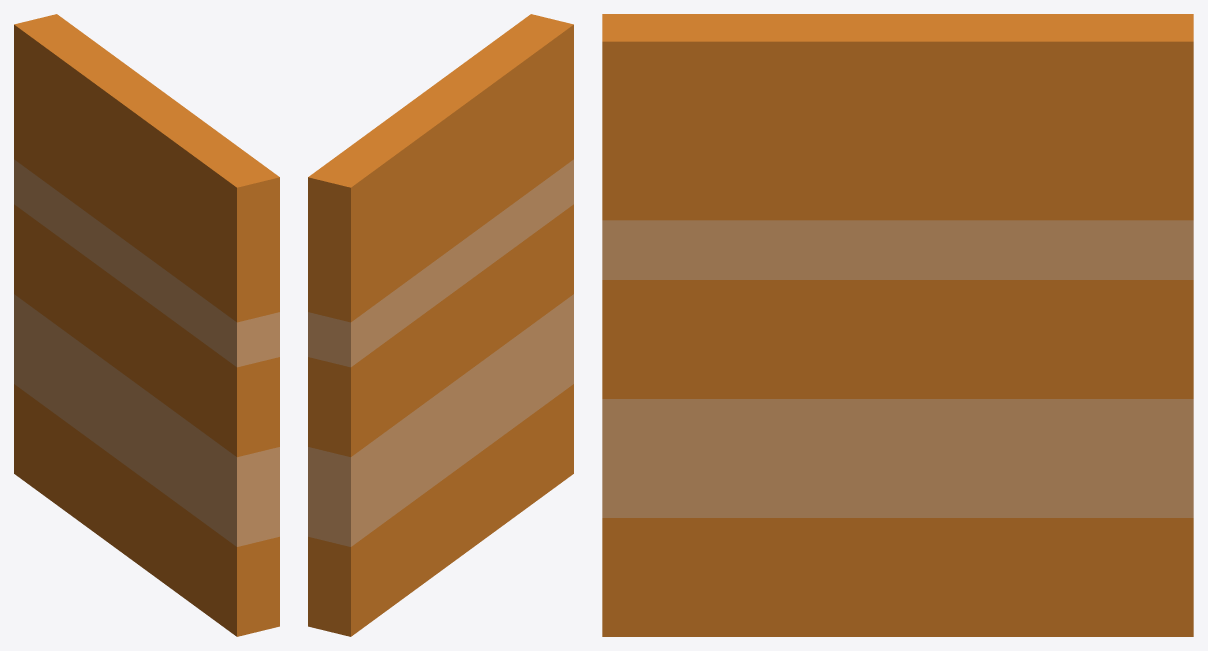
Rendered from dirt_wall_C_9.obj.
The picture shows the model from 3 angles, left to right: view 1: azimuth 30°, elevation 25°; view 2: azimuth 150°, elevation 25°; view 3: azimuth 270°, elevation 25°; orthographic projection. The views are drawn at different scales.
Bounding box in the file's own units: 0.1 × 1 × 0.9.
Materials: 1 (1 with a texture image).
